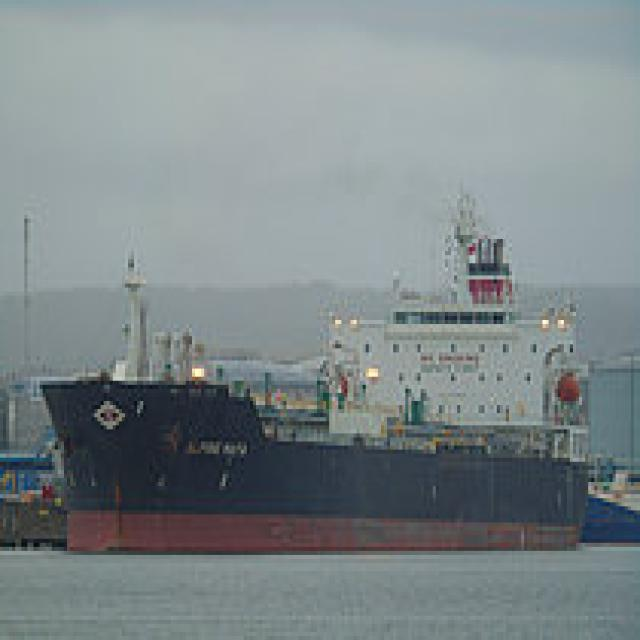Tanker: (31, 174, 594, 555)
